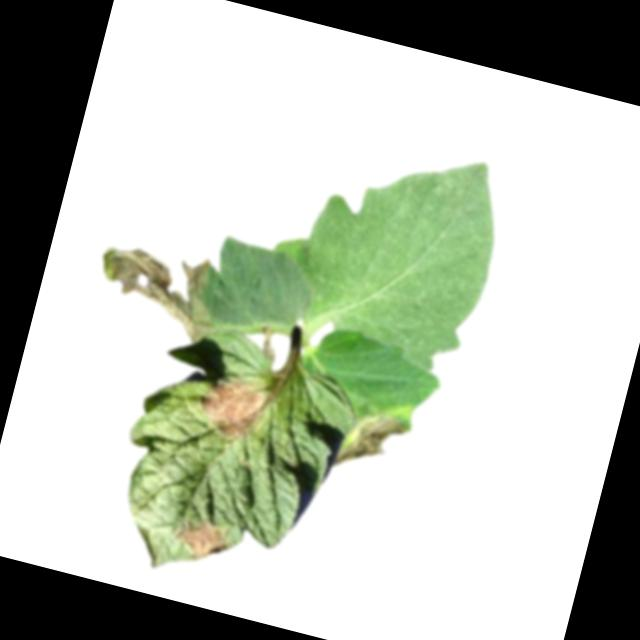Late_blight: (87, 233, 231, 348), (332, 390, 423, 485), (192, 366, 280, 448), (166, 513, 234, 572)
